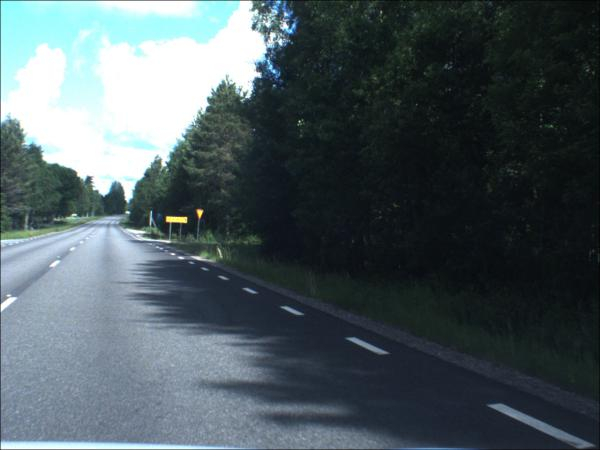GIVE_WAY: (197, 210, 206, 221)
